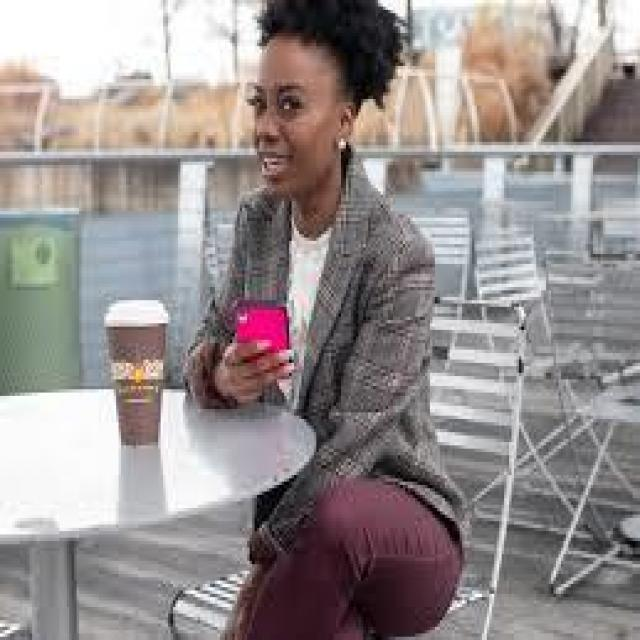person: (94, 0, 447, 627)
